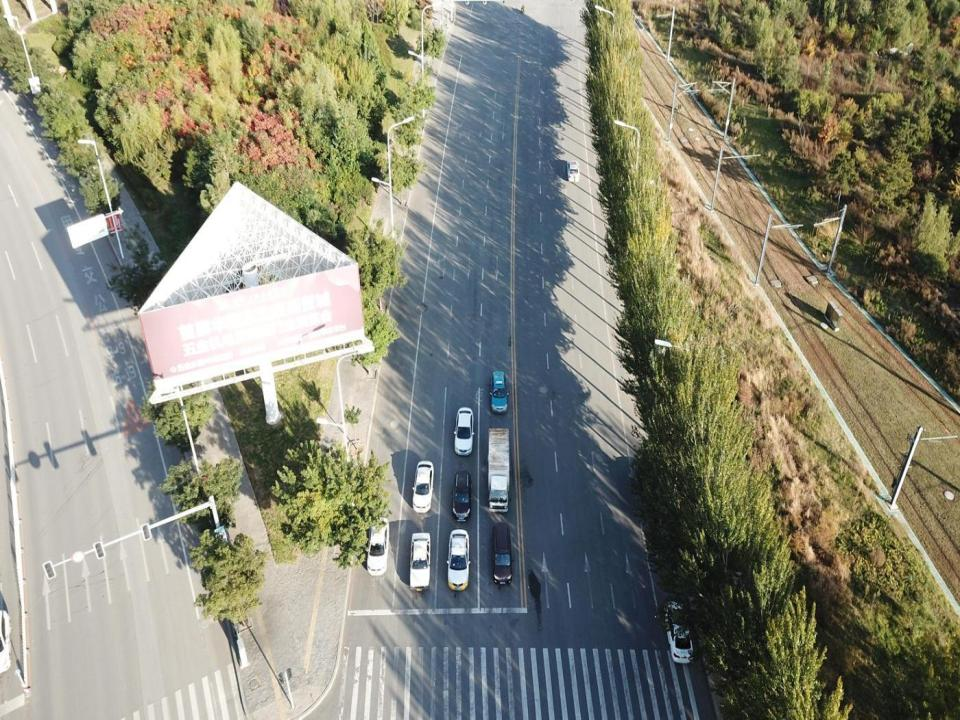car: (663, 600, 693, 664), (447, 530, 470, 589), (410, 533, 431, 590), (493, 522, 512, 584), (368, 516, 388, 574), (413, 460, 433, 512), (452, 470, 472, 522), (454, 408, 474, 455), (491, 370, 508, 415), (567, 161, 578, 182)
truck: (486, 428, 512, 512)
